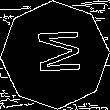M_W: (28, 30, 82, 80)
